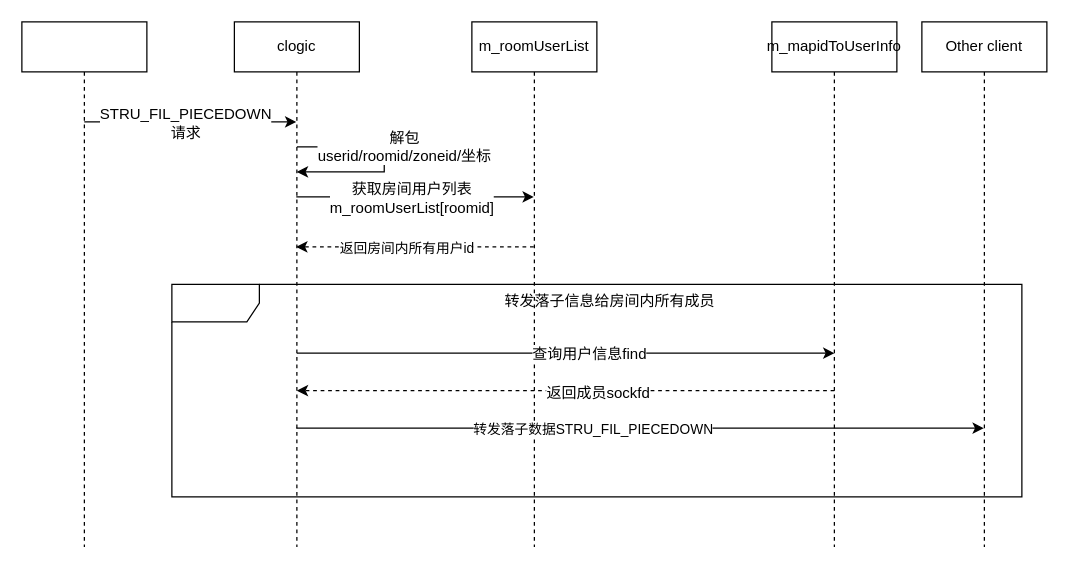
This 1069x569 diagram has some shape labels left out. The box of each missing label's shape, as (x1, y1, x2, y2) in pixels:
client: (21, 21, 147, 547)
loop 循环: (171, 283, 1022, 497)
